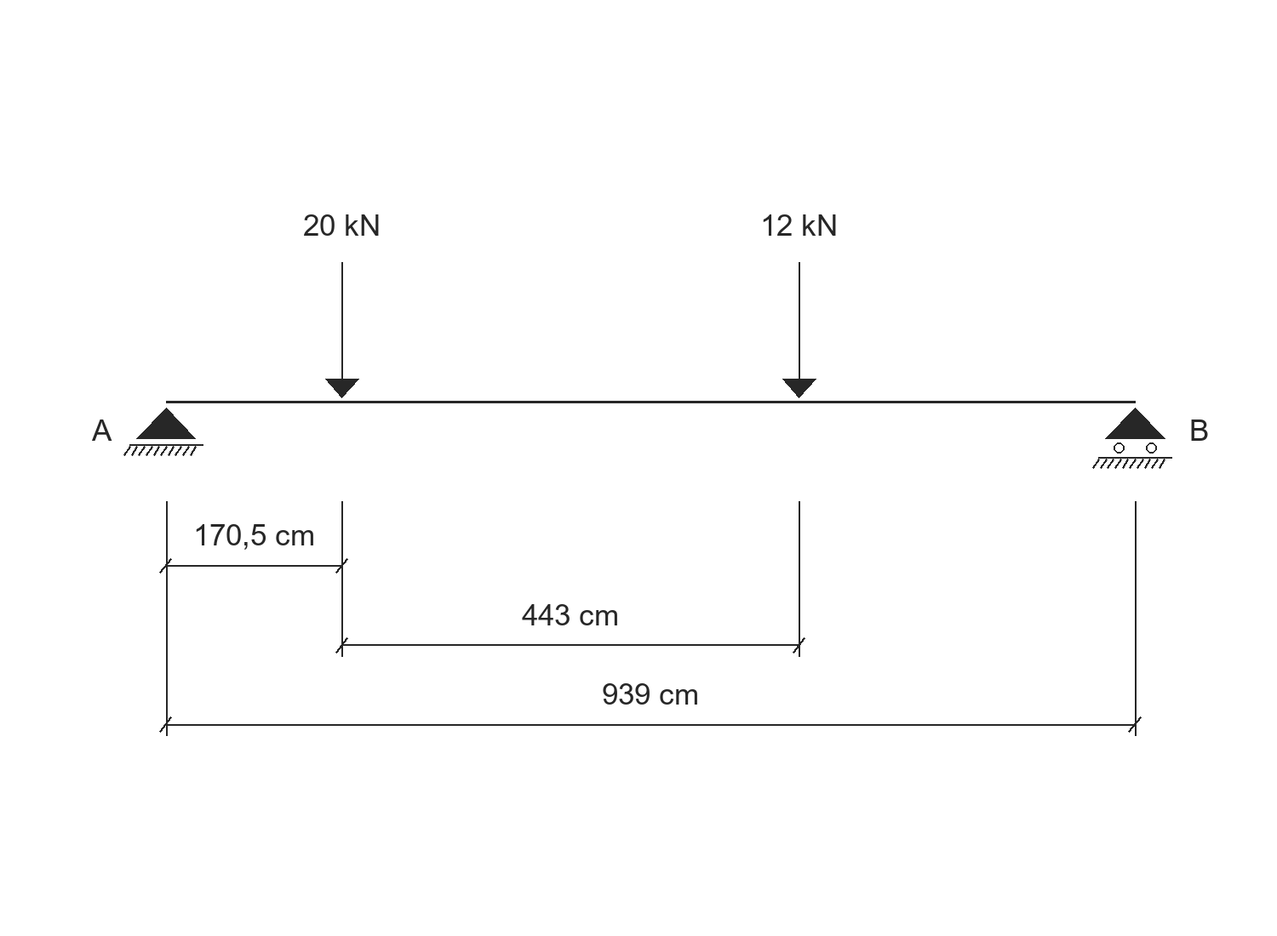pin_support: (123, 408, 203, 456)
point_load: (325, 262, 359, 398), (782, 262, 816, 398)
roller_support: (1092, 408, 1172, 469)
